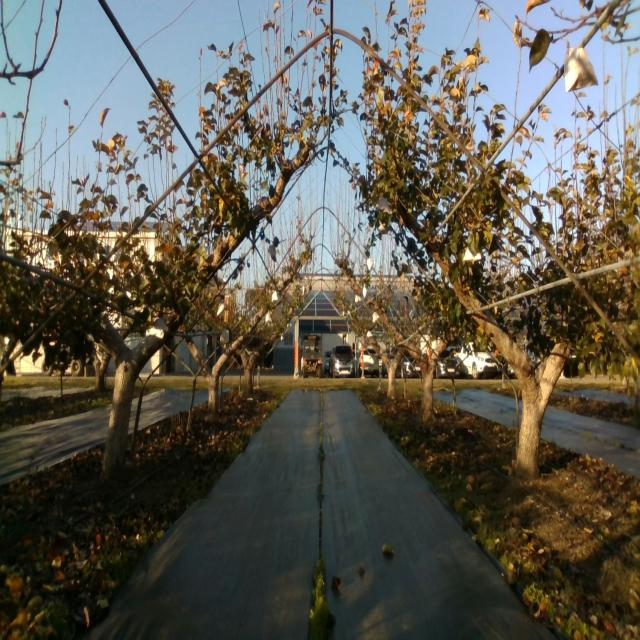pearbags: (565, 40, 598, 90), (144, 318, 167, 339), (377, 196, 392, 215)
